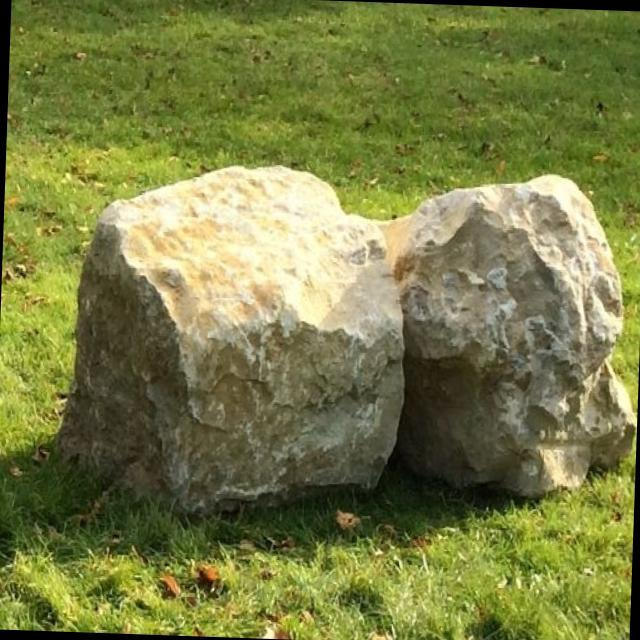stone: (60, 166, 404, 513), (385, 174, 637, 497)
